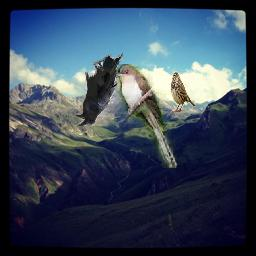Crow: (75, 52, 123, 127)
Cuckoo: (117, 64, 178, 168)
Sparrow: (171, 72, 196, 113)
